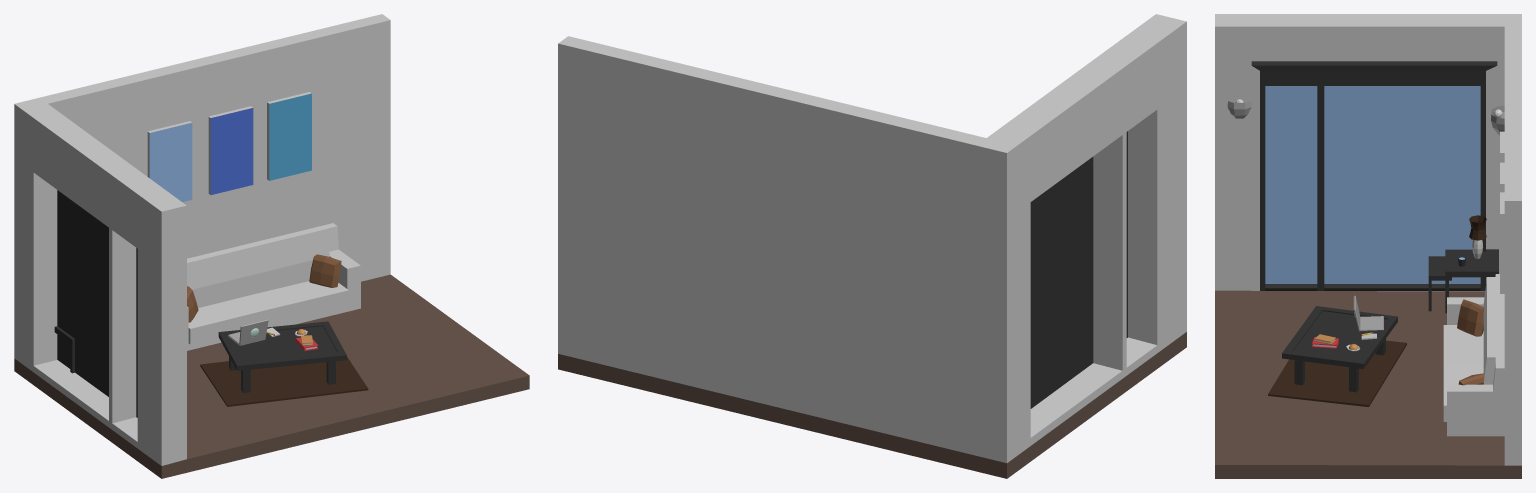
Rendered from Living room - blue.fbx.
3 views of the same model, side by side, from view 1: azimuth 30°, elevation 25°; view 2: azimuth 150°, elevation 25°; view 3: azimuth 270°, elevation 25° (orthographic). The views are drawn at different scales.
Visible parts, largest first — view 1: Room, Sofa, Windows, Others, Others.005, Art.002, Art.001, Art, Others.001; view 2: Room, Windows; view 3: Room, Windows, Sofa, Others.005, Others, Water, Water.001, Others.001, Art.001, Light.001, Light.002.
Part boxes in pixels (left/top/right/bottom): Room: left=14, top=14, right=529, bottom=478; Sofa: left=187, top=223, right=360, bottom=350; Windows: left=57, top=190, right=137, bottom=417; Others: left=200, top=357, right=368, bottom=406; Others.005: left=218, top=321, right=346, bottom=392; Art.002: left=208, top=106, right=253, bottom=194; Art.001: left=267, top=92, right=311, bottom=180; Art: left=147, top=121, right=192, bottom=201; Others.001: left=228, top=319, right=268, bottom=345; Room: left=558, top=14, right=1186, bottom=478; Windows: left=1030, top=131, right=1127, bottom=408; Room: left=1215, top=14, right=1521, bottom=478; Windows: left=1251, top=61, right=1497, bottom=290; Sofa: left=1443, top=274, right=1504, bottom=436; Others.005: left=1282, top=306, right=1397, bottom=392; Others: left=1268, top=340, right=1406, bottom=406; Water: left=1428, top=249, right=1498, bottom=313; Water.001: left=1469, top=215, right=1486, bottom=258; Others.001: left=1353, top=295, right=1383, bottom=331; Art.001: left=1500, top=192, right=1504, bottom=293; Light.001: left=1227, top=99, right=1251, bottom=118; Light.002: left=1491, top=105, right=1504, bottom=135.
Size of the model in its own units: 308 by 214 by 214.
